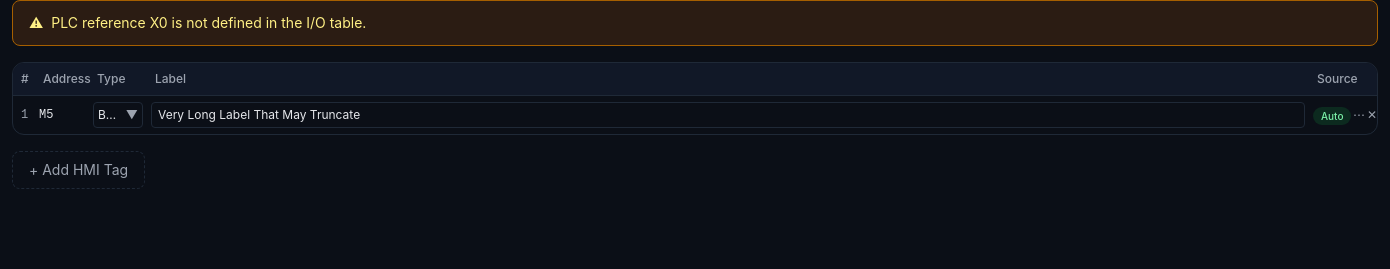
Scenario: HMITagTable › overflow banner (M7.1) › exposes title tooltips on truncated cells
expect the field with test id "hmi-label-0" is shown: met, box [151,102,1305,128]
Click the button with test id "hmi-more-0".
click(1359, 115)  # box [1353,103,1365,127]
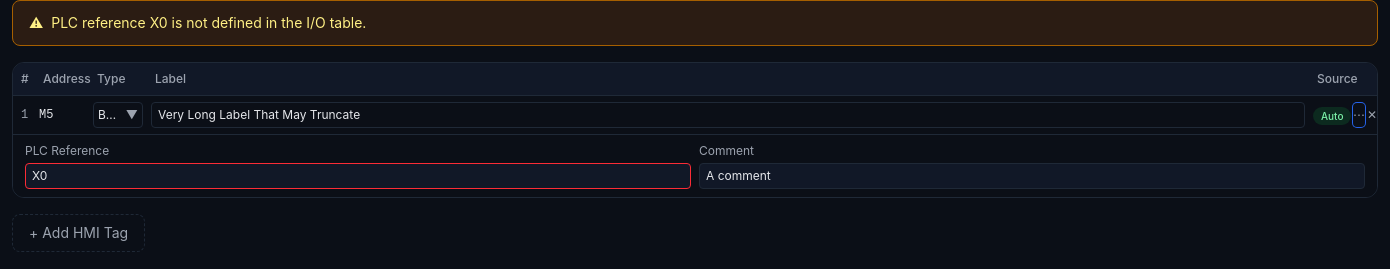
expect the field with test id "hmi-plcref-0" is shown: met, box [25,163,691,189]
